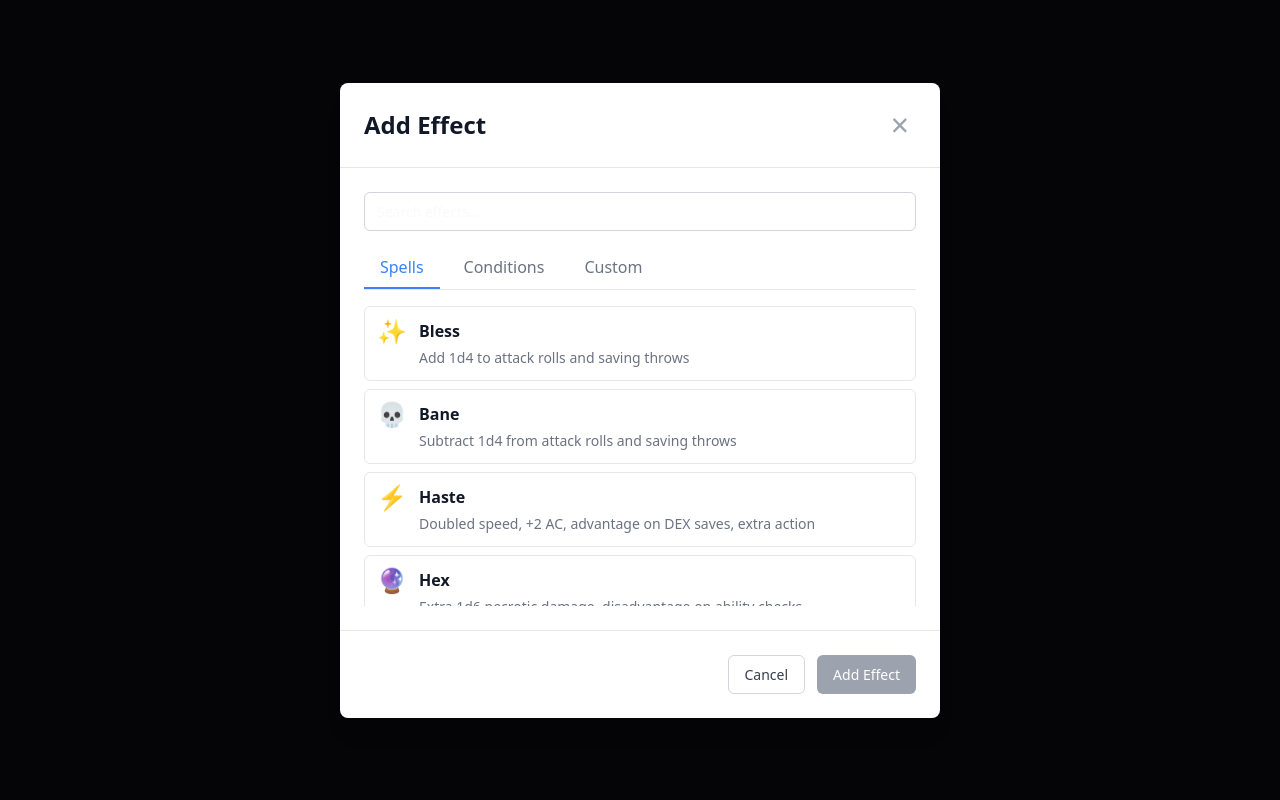
it: AddEffectModal › Custom Effect › should show custom effect form when Custom is selected
Click the button "Custom".
click(613, 268)  # box [568,246,658,288]
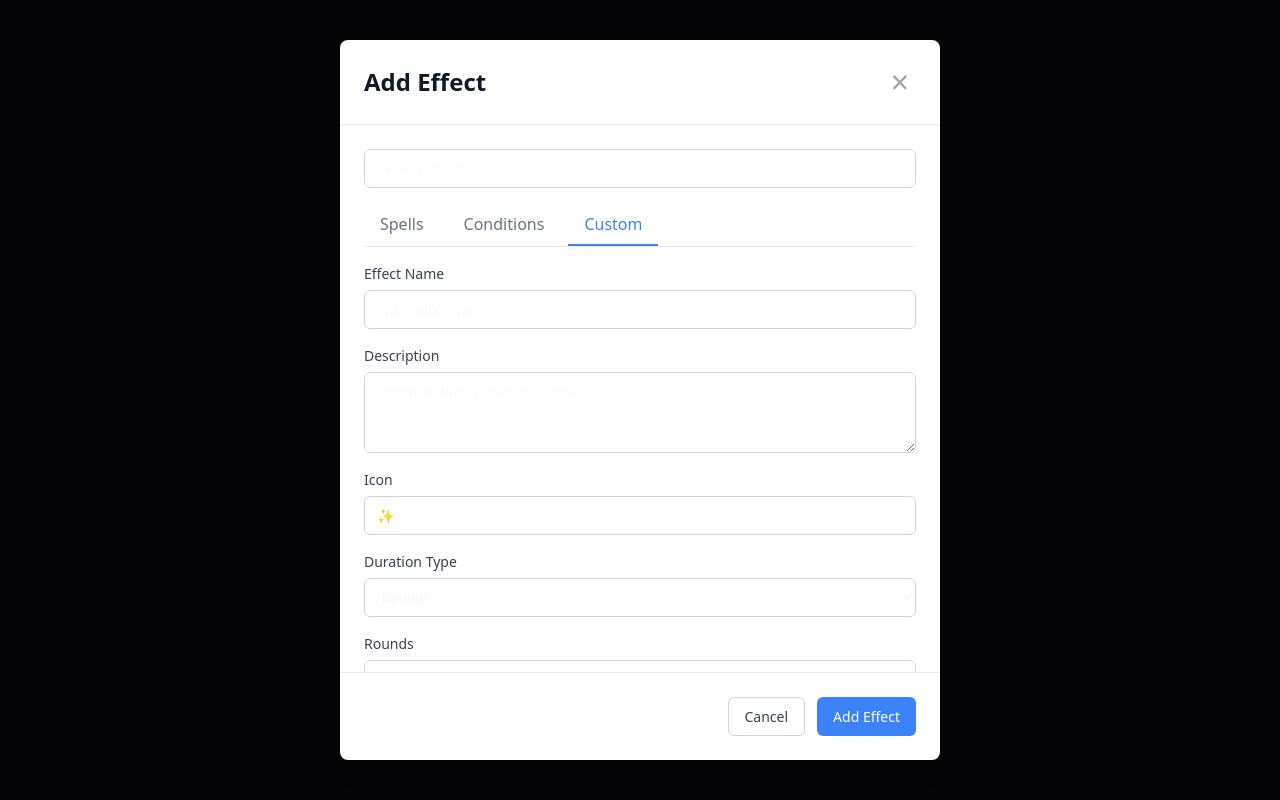
Expected: the field labelled "Effect Name" is shown, [364,290,916,329]
Expected: the text box labelled "Description" is shown, [364,372,916,453]
